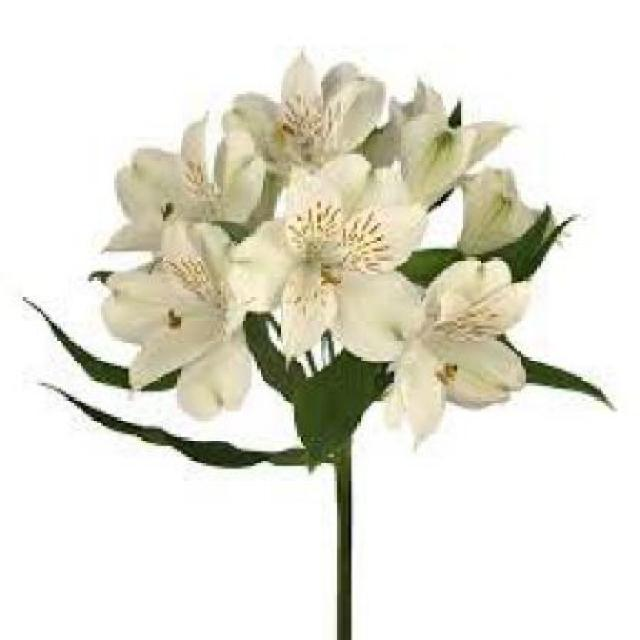Flower: (231, 154, 426, 369), (103, 217, 252, 417), (394, 257, 526, 449), (100, 114, 266, 266), (223, 49, 386, 192), (389, 94, 515, 226), (457, 165, 572, 278)
